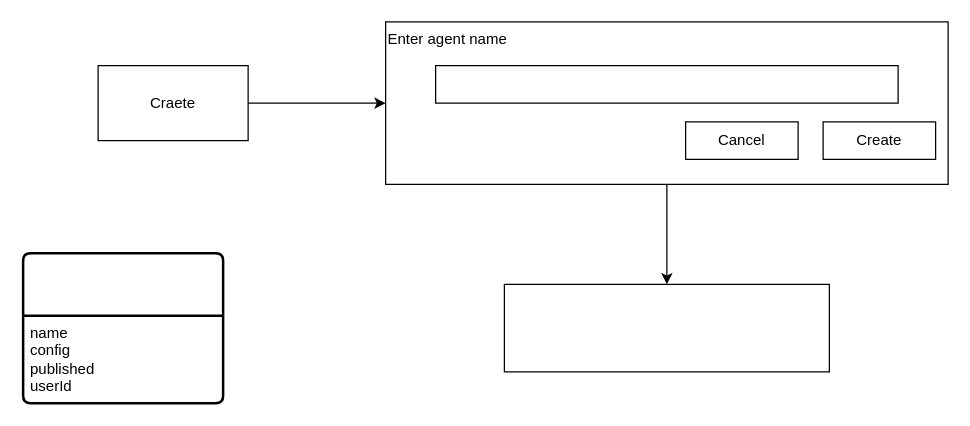
This 970x426 diagram has some shape labels left out. Each missing label, with the box of its shape:
AgentTable: (21, 251, 224, 404)
Save to db: (503, 283, 829, 372)
